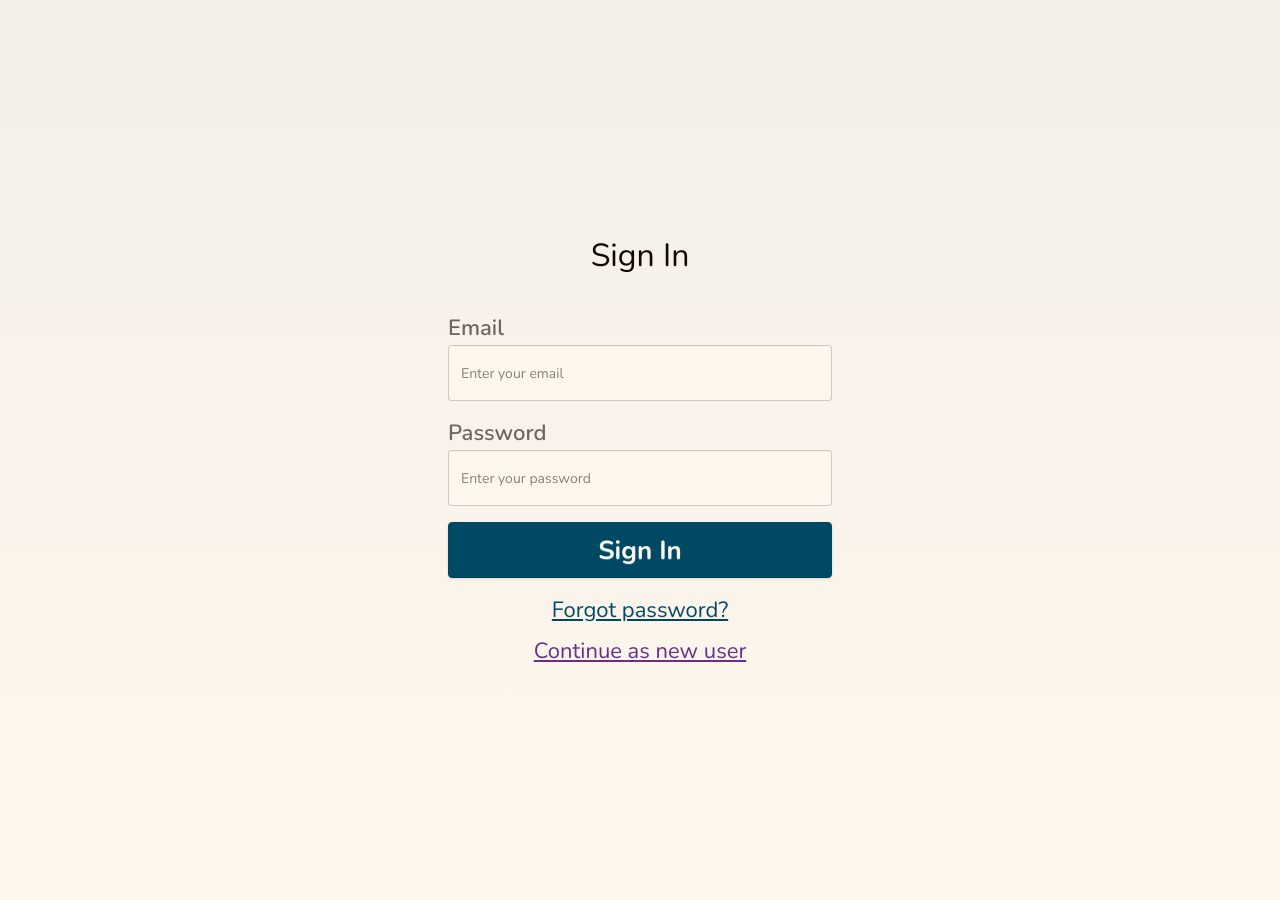
Test: LoginForm › shows error for wrong password
Step 1. Type "test@example.com" into the field labelled "Email" → (640, 373), box x1=448 y1=345 x2=832 y2=401
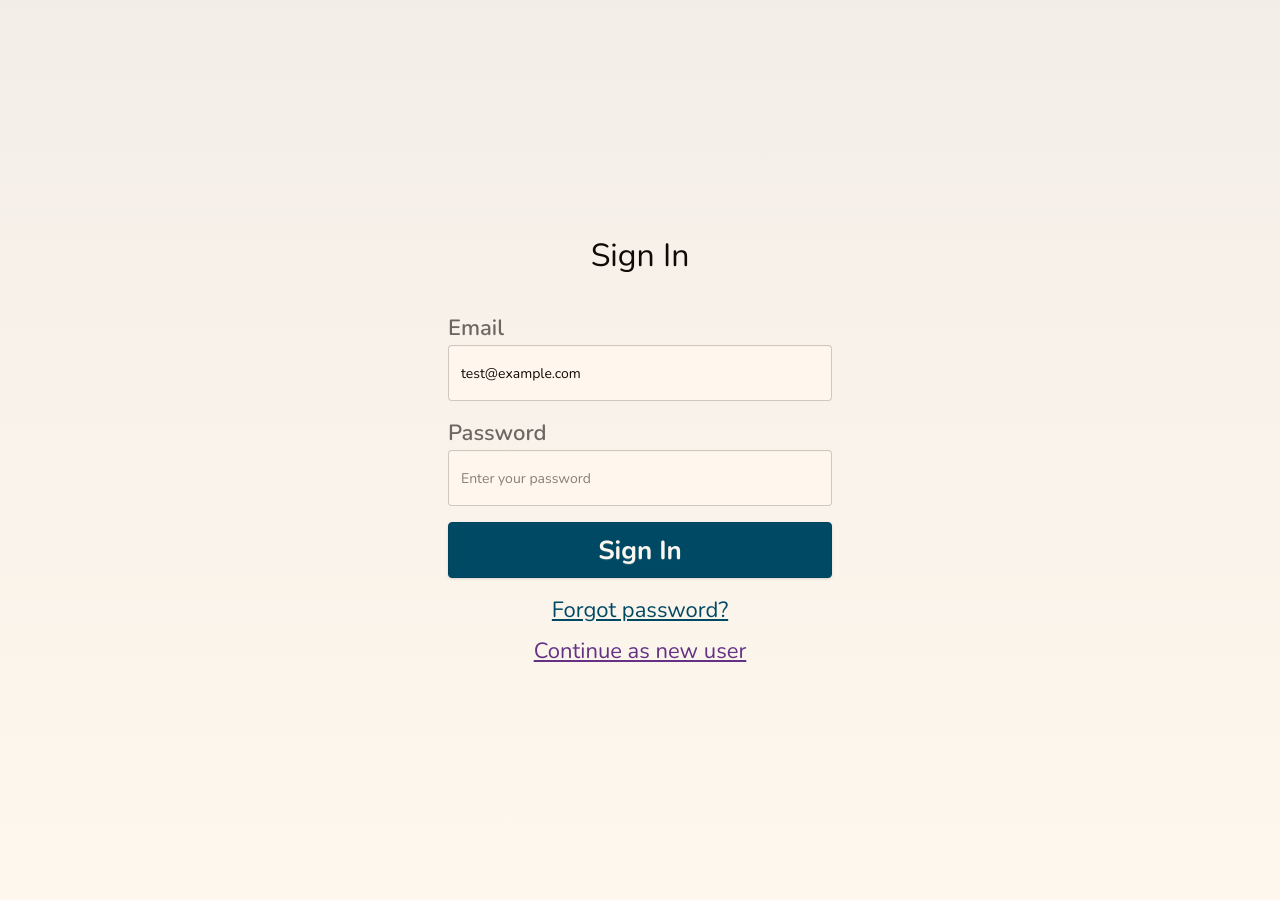
Step 2. Type "wrong" into the password field labelled "Password" → (640, 478), box x1=448 y1=450 x2=832 y2=506
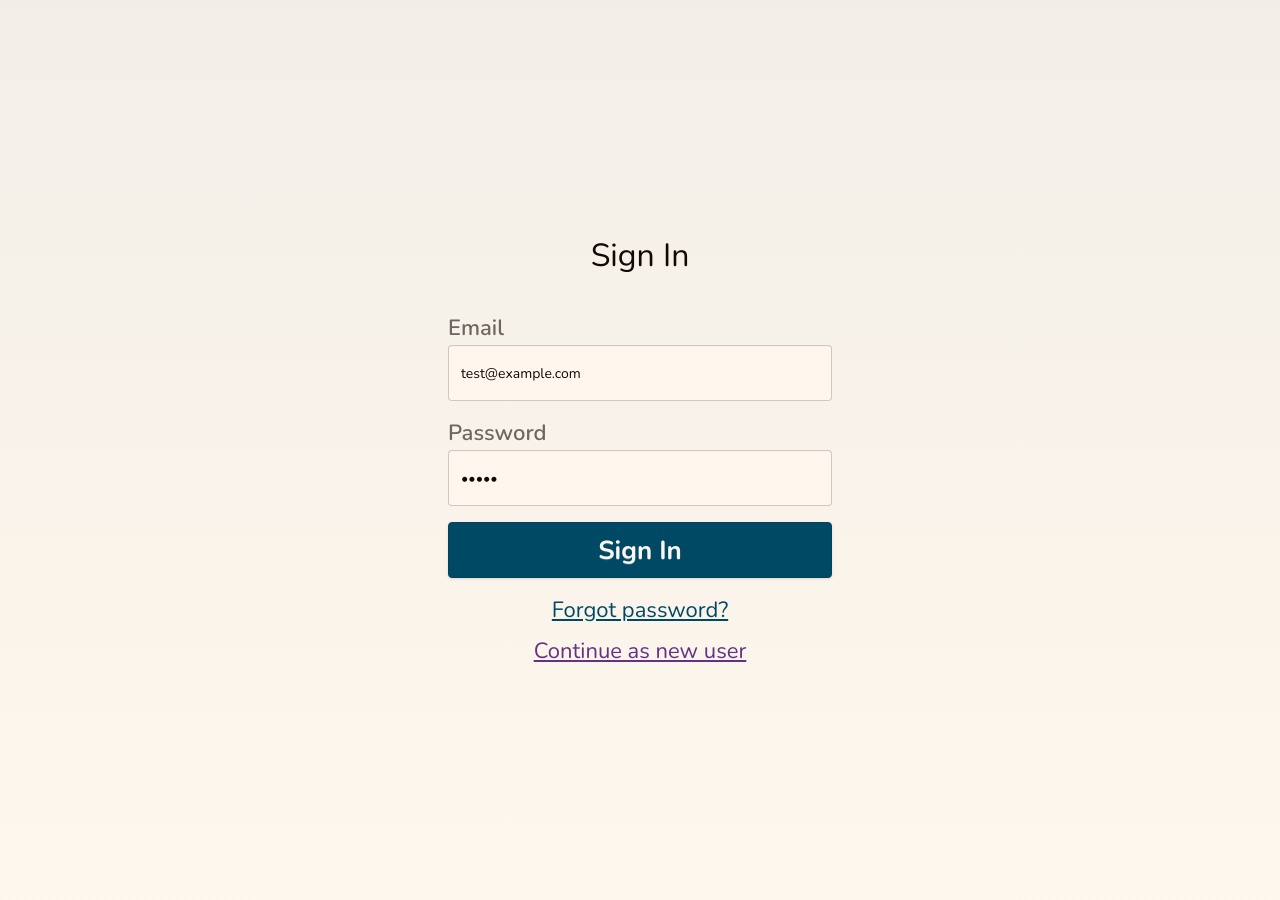
Step 3. Click the button "Sign In" → (640, 550), box x1=448 y1=522 x2=832 y2=578
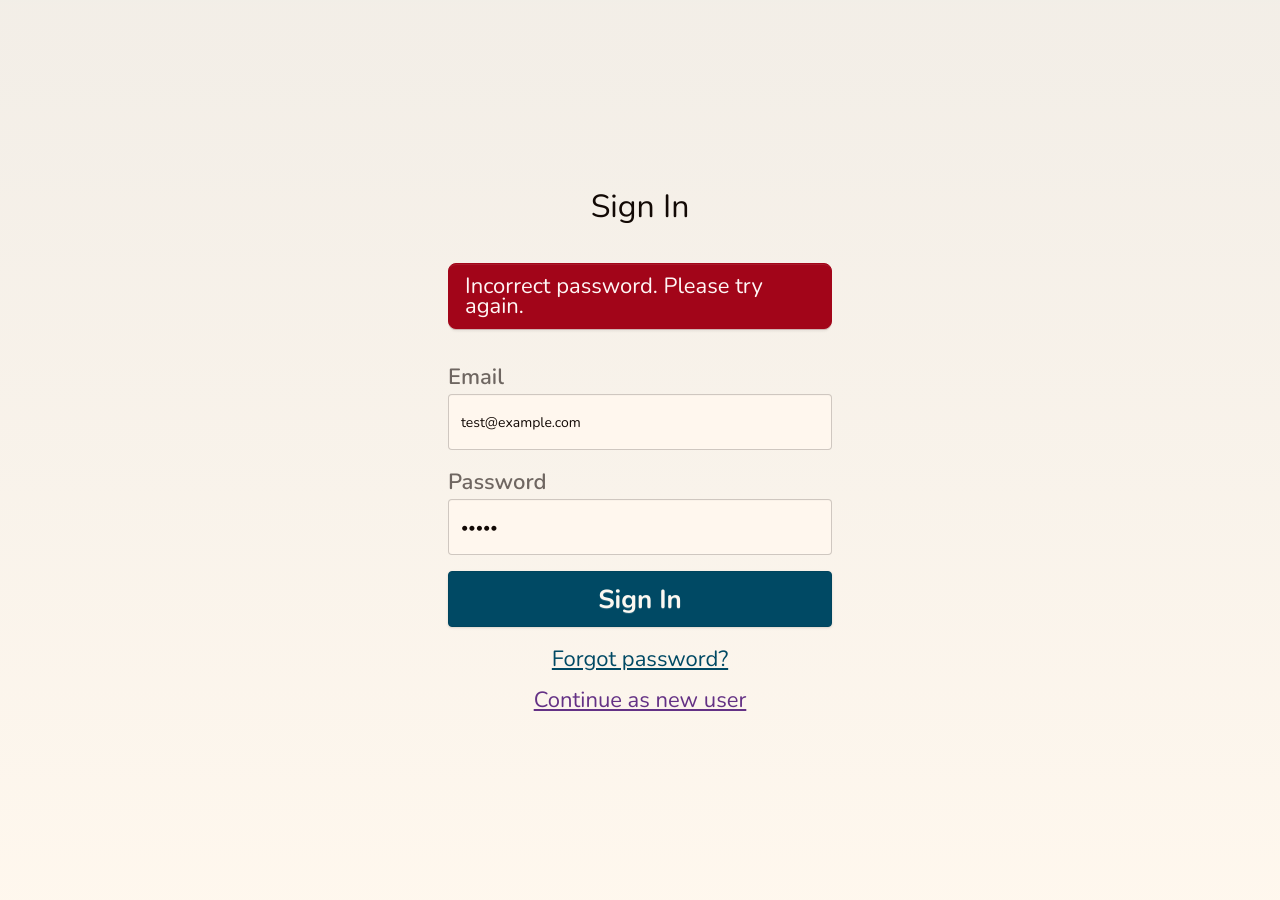
Expected: the message shows "Incorrect password", x1=465 y1=271 x2=763 y2=321
